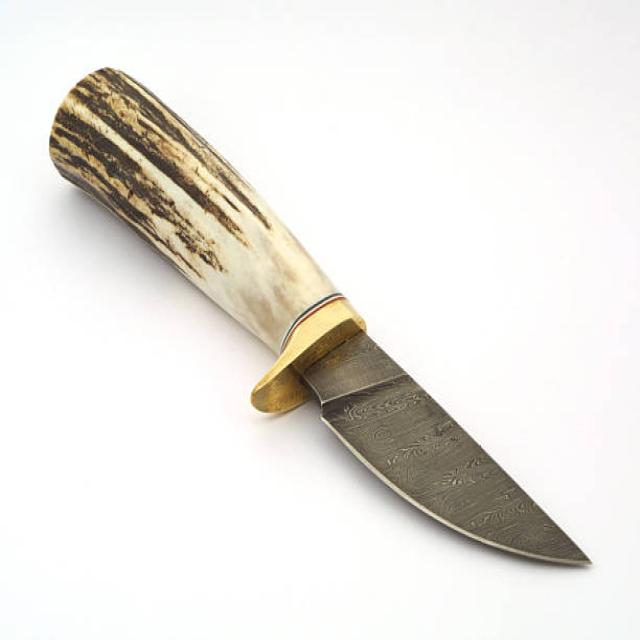knife: (40, 59, 601, 590)
